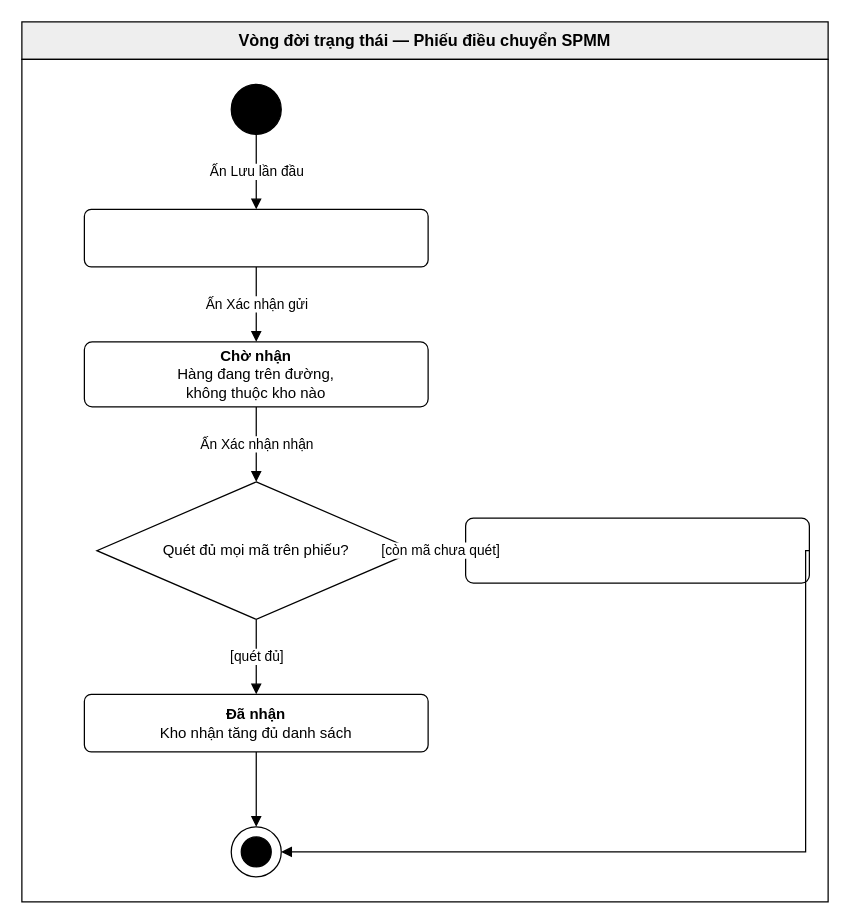
This 850x924 diagram has some shape labels left out. The shapes that lost their labels are listed below. From the top down, each one's centre as x and y in pixels, then its label:
At (255,237): "Mới Bên gửi nhập liệu, mã bị giữ chỗ".
At (636,550): "Đã nhận thiếu Phần chưa quét sang Thất lạc".
